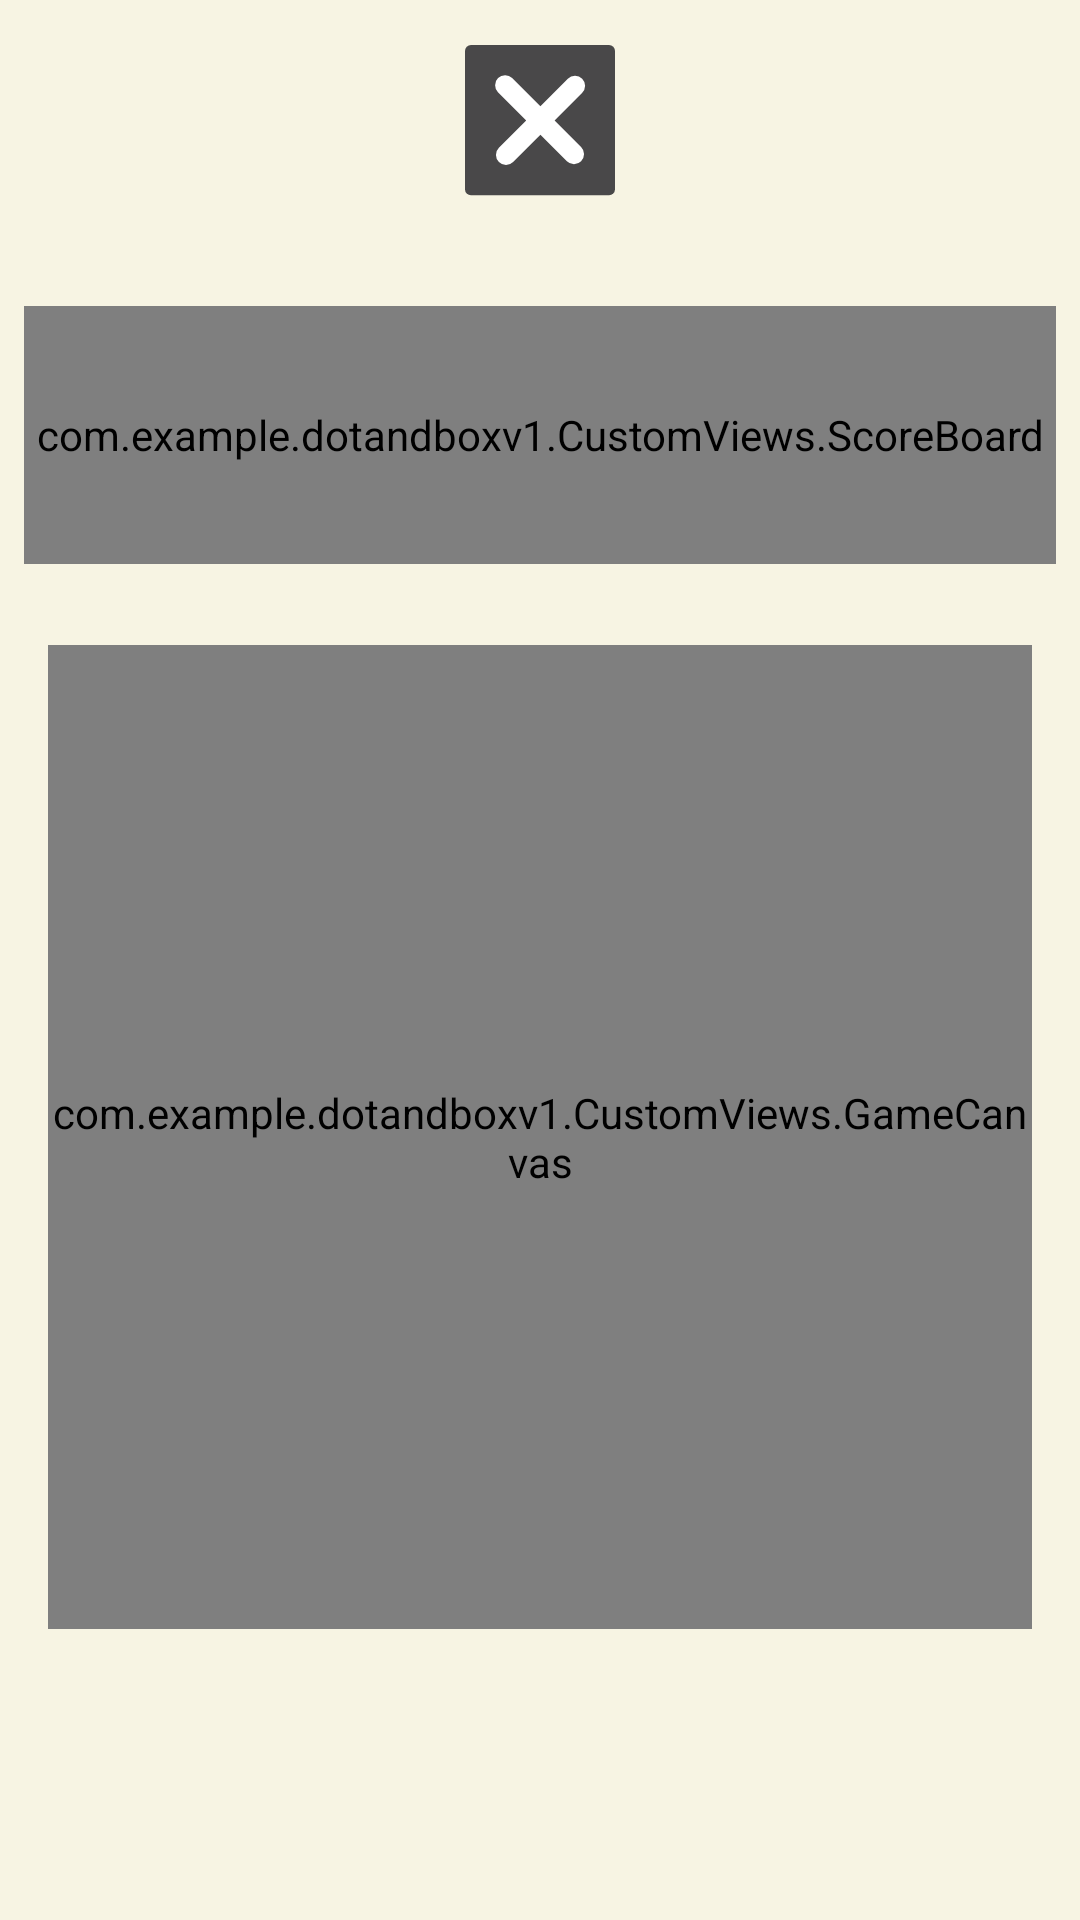

Screen size 1080px×1920px. Icon name, then its center in pixels as (x=x, y=y):
cancel: (x=540, y=120)
